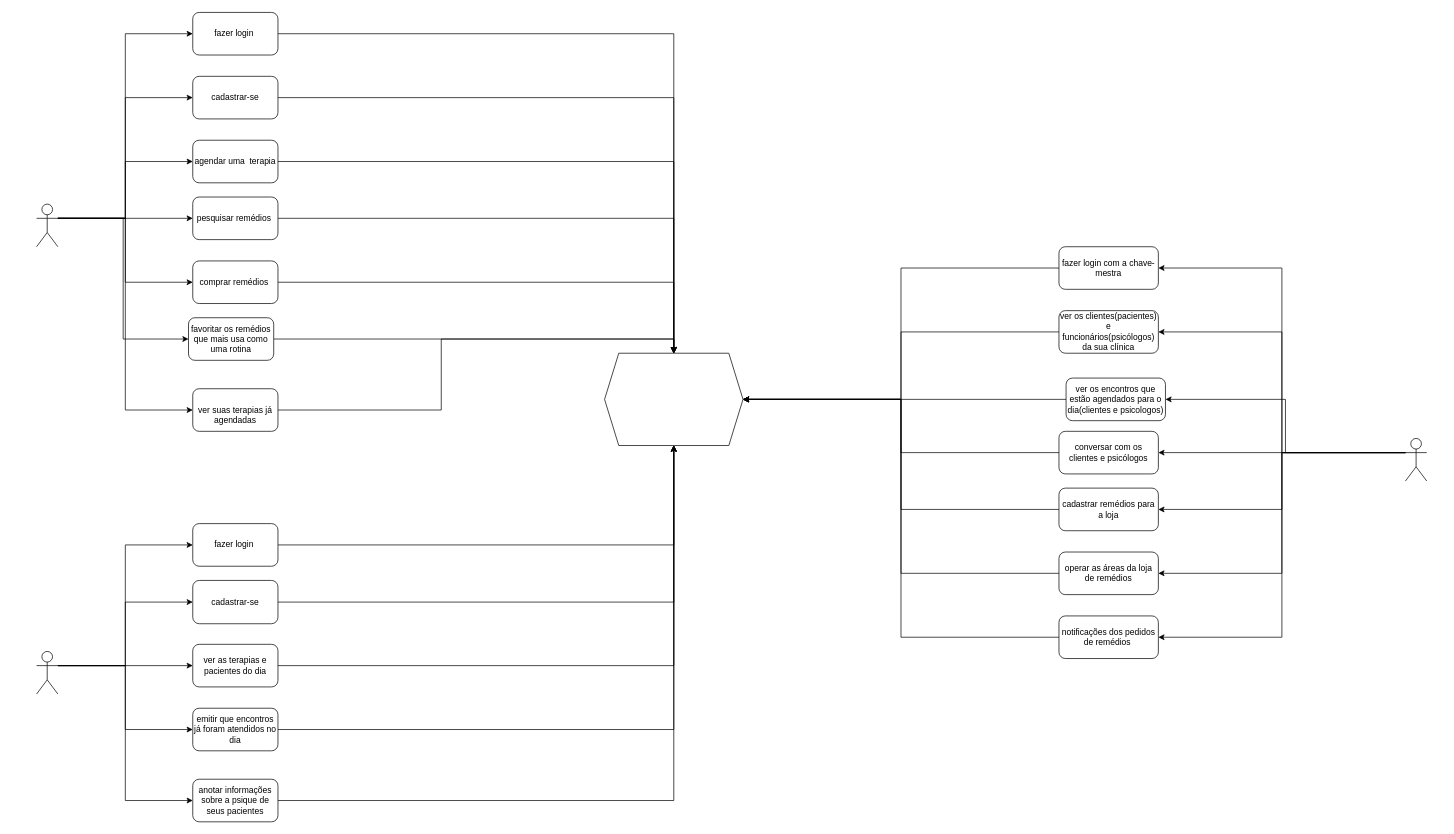
Image size: 1454x834. Some labels were removed from this diagram. The box of each missing label's shape, as (x1, y1, x2, y2) in pixels:
administrador: (1405, 438, 1427, 481)
o sistema do Seas: (604, 353, 743, 446)
paciente/cliente I: (36, 203, 58, 247)
psicólogo/cliente II: (36, 651, 58, 694)
